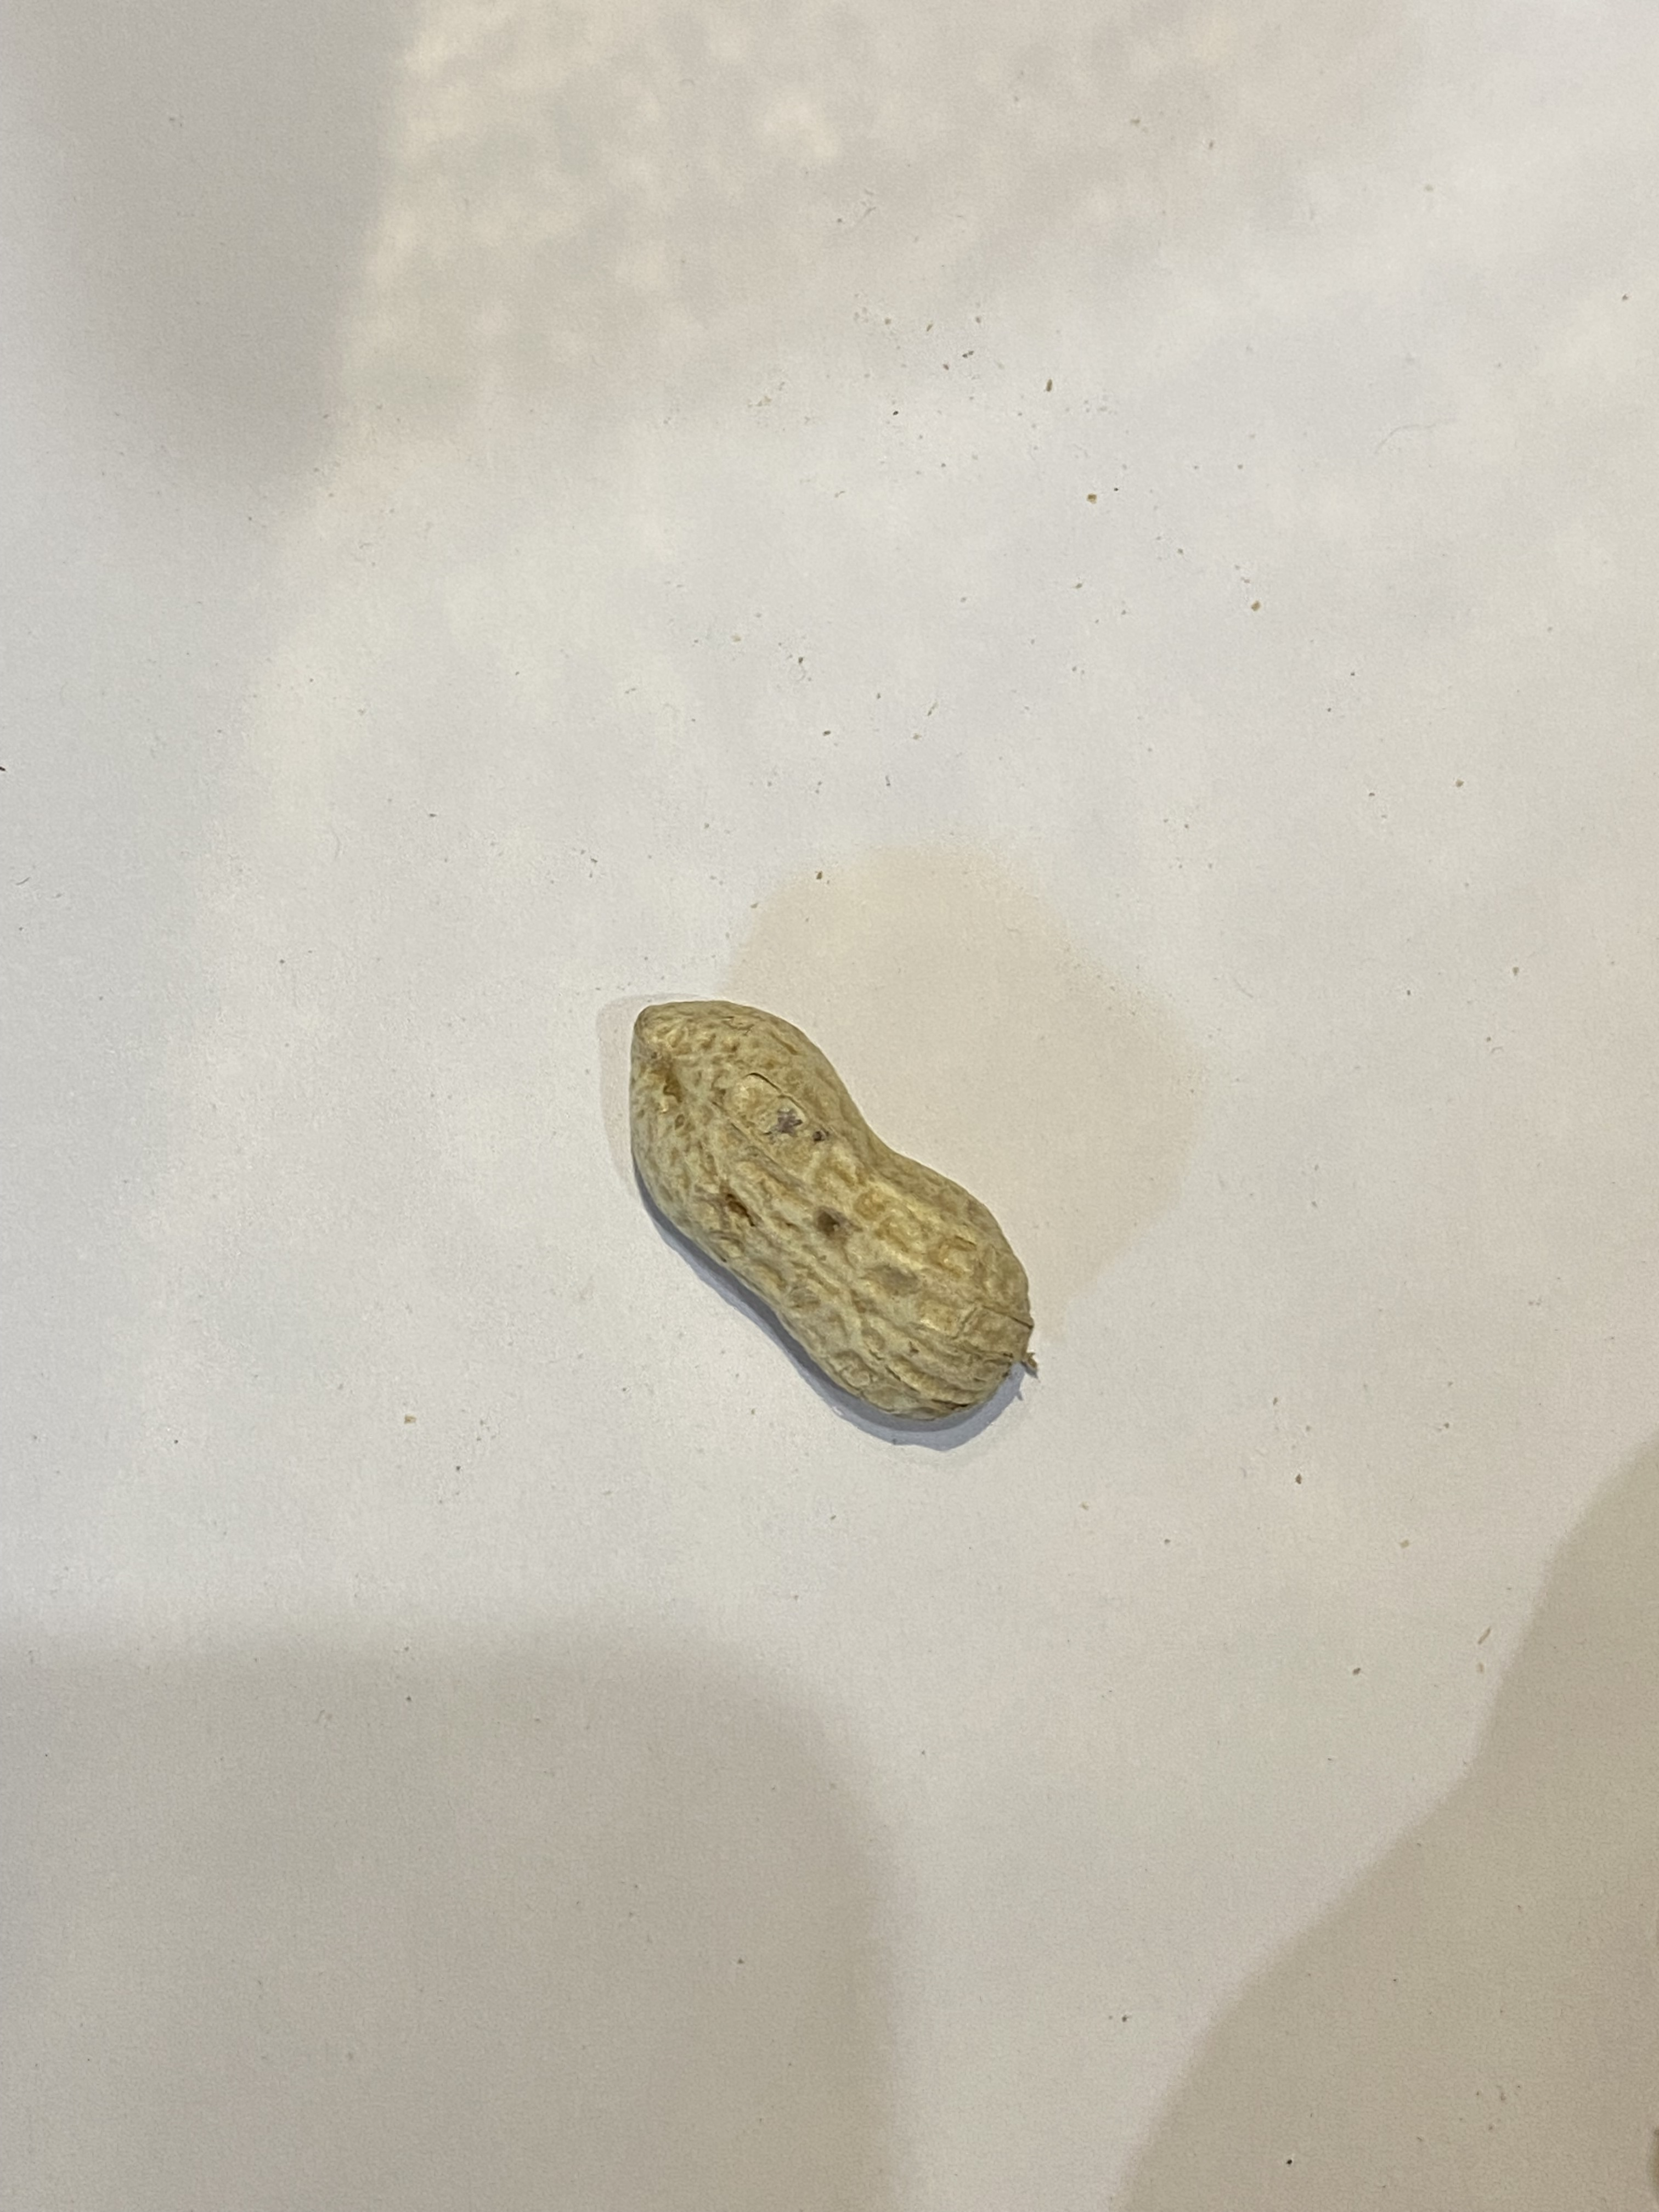kacang2: (612, 986, 1054, 1435)
